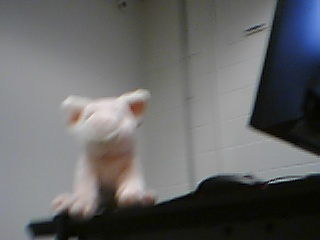piggy: (52, 87, 160, 220)
